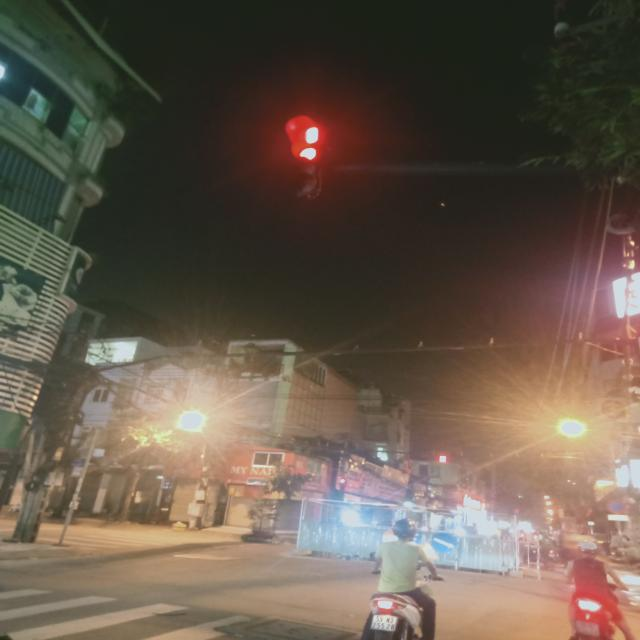Red: (286, 143, 328, 202)
